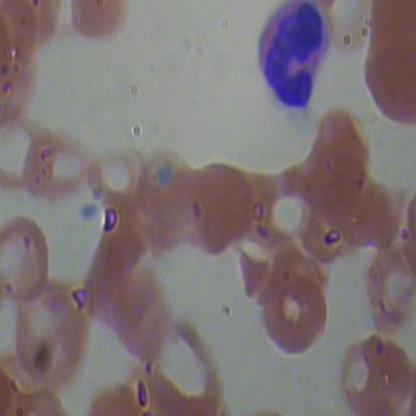RBC: (257, 270, 333, 368), (308, 107, 374, 218), (184, 162, 254, 258), (107, 267, 177, 363), (19, 125, 89, 221), (338, 331, 415, 416), (350, 241, 415, 338), (1, 214, 60, 310), (360, 35, 415, 130), (86, 143, 146, 220), (66, 0, 127, 50)
WBC: (242, 1, 336, 115)
